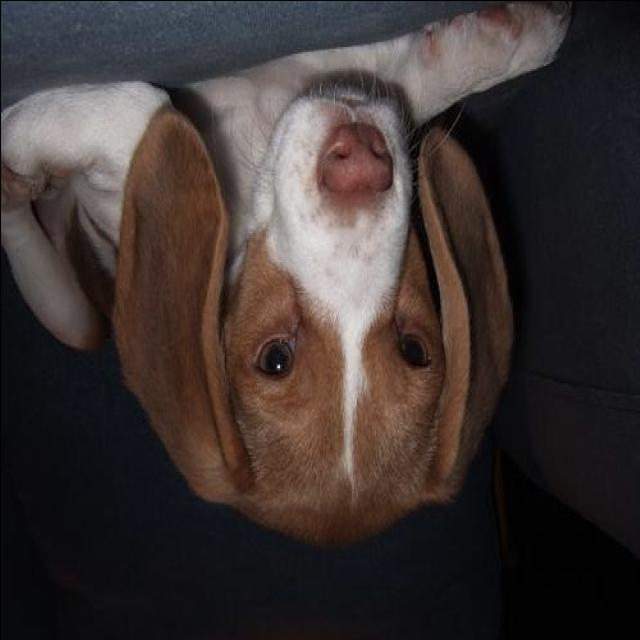beagle: (2, 5, 570, 555)
